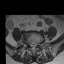CCS_normal: (32, 42, 34, 50)
LFS_stenosis: (36, 42, 38, 46)
LLS_normal: (34, 42, 36, 49)
RFS_normal: (28, 41, 30, 46)
RLS_normal: (30, 42, 32, 49)
